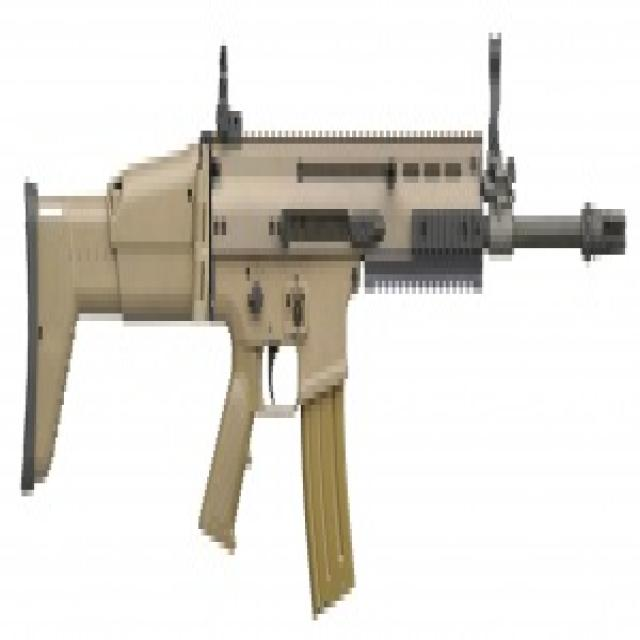rifle: (12, 15, 629, 634)
